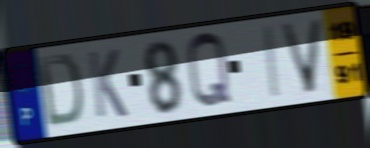8: (140, 37, 184, 116)
D: (35, 52, 84, 130)
I: (263, 23, 283, 102)
K: (86, 47, 130, 121)
Q: (184, 30, 235, 112)
V: (278, 17, 326, 97)
